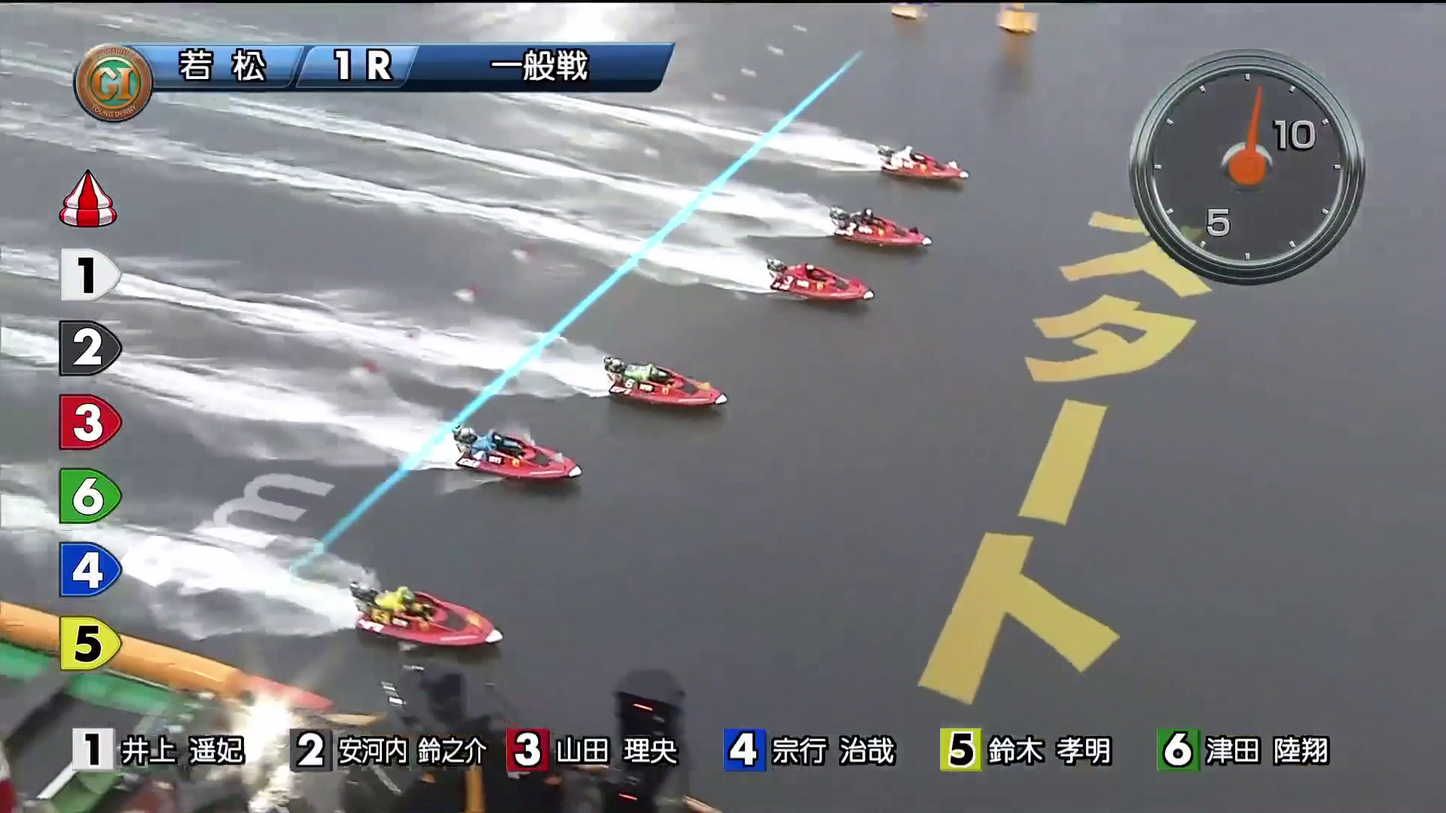１号艇: (839, 164, 917, 210)
２号艇: (853, 225, 915, 263)
３号艇: (794, 272, 849, 313)
４号艇: (639, 369, 704, 412)
５号艇: (502, 456, 571, 494)
６号艇: (435, 616, 500, 663)
